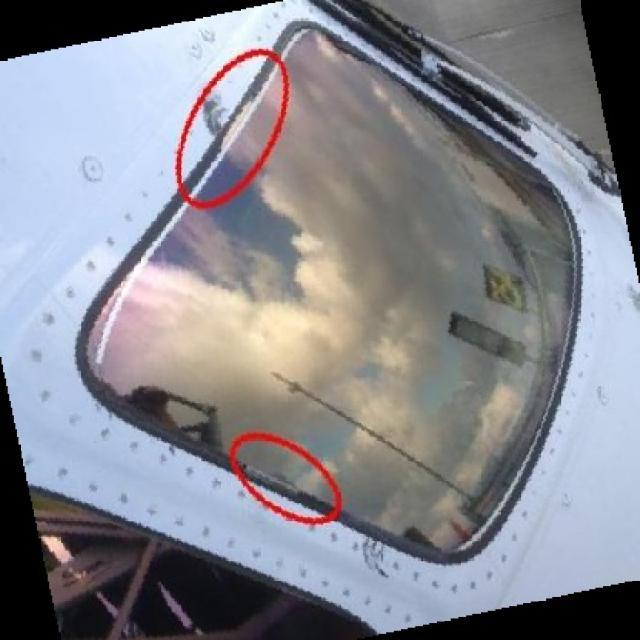crack: (364, 535, 386, 577)
